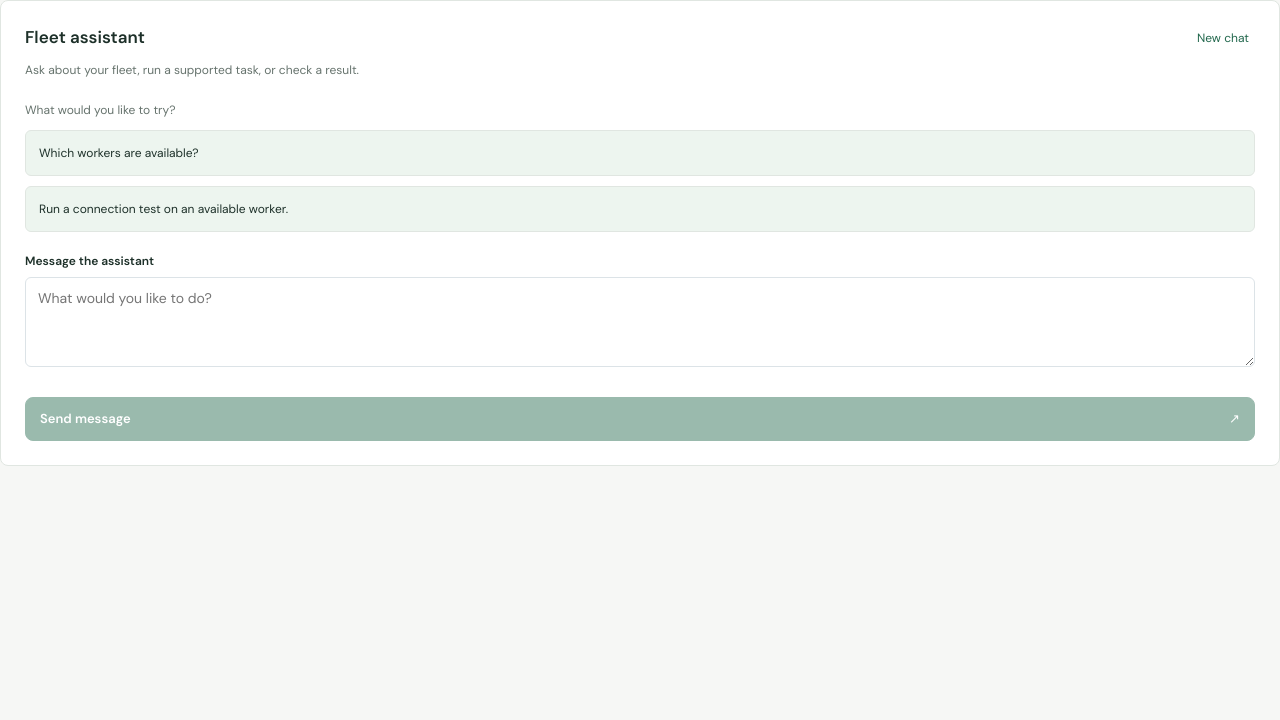
fleet assistant › sends messages, shows tool activity, and keeps follow-ups in one conversation
Type "Which workers are available?" into the text box labelled "Message the assistant". click: (640, 322)
box: [25,277,1255,367]
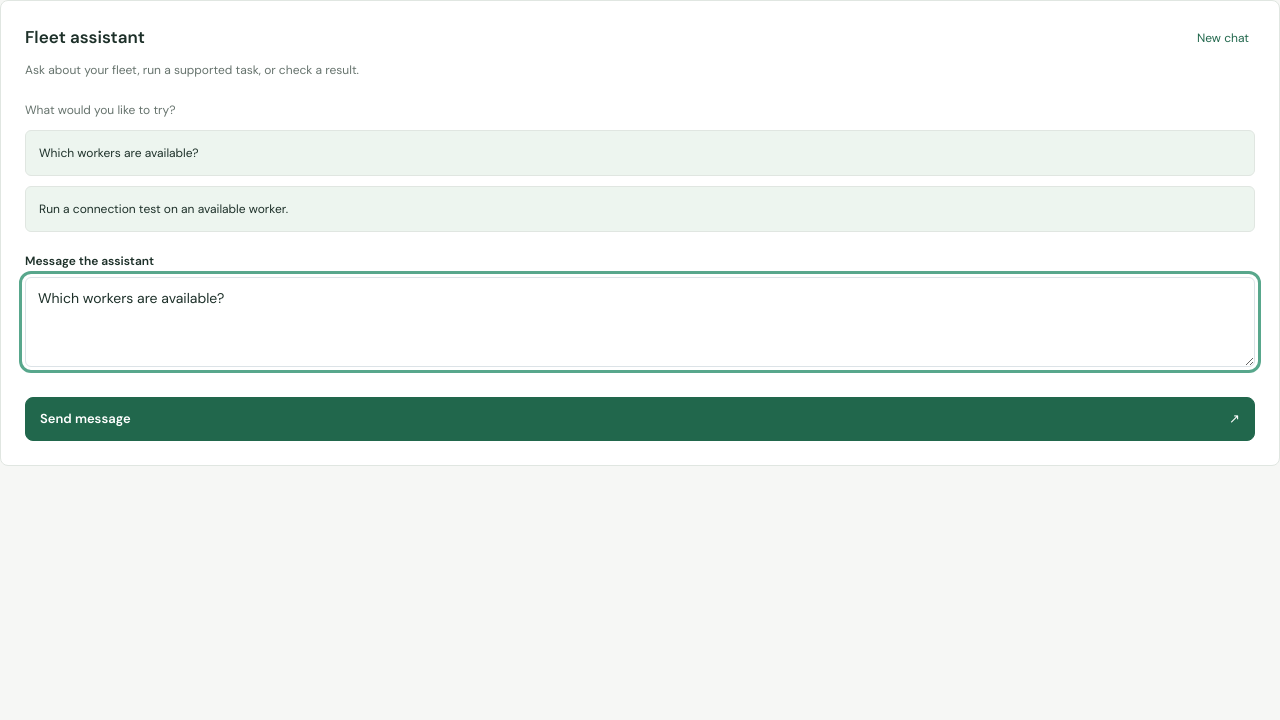
Click the button "Send message ↗". click: click(85, 419)
box: [25,397,1255,441]
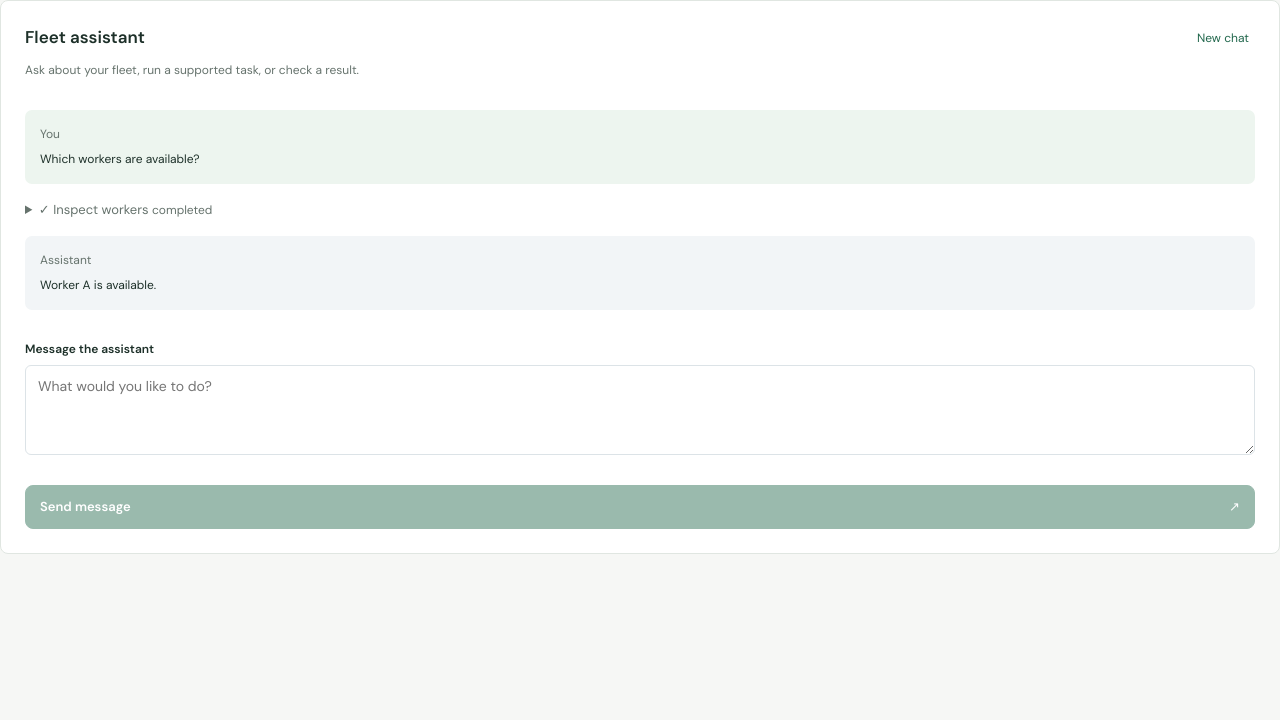
Expected: the text "Worker A is available." is shown, [40,277,156,293]
Expected: the heading "✓ Inspect workers completed" is shown
Click the heading "✓ Inspect workers completed". click: click(126, 210)
box: [39,201,212,218]
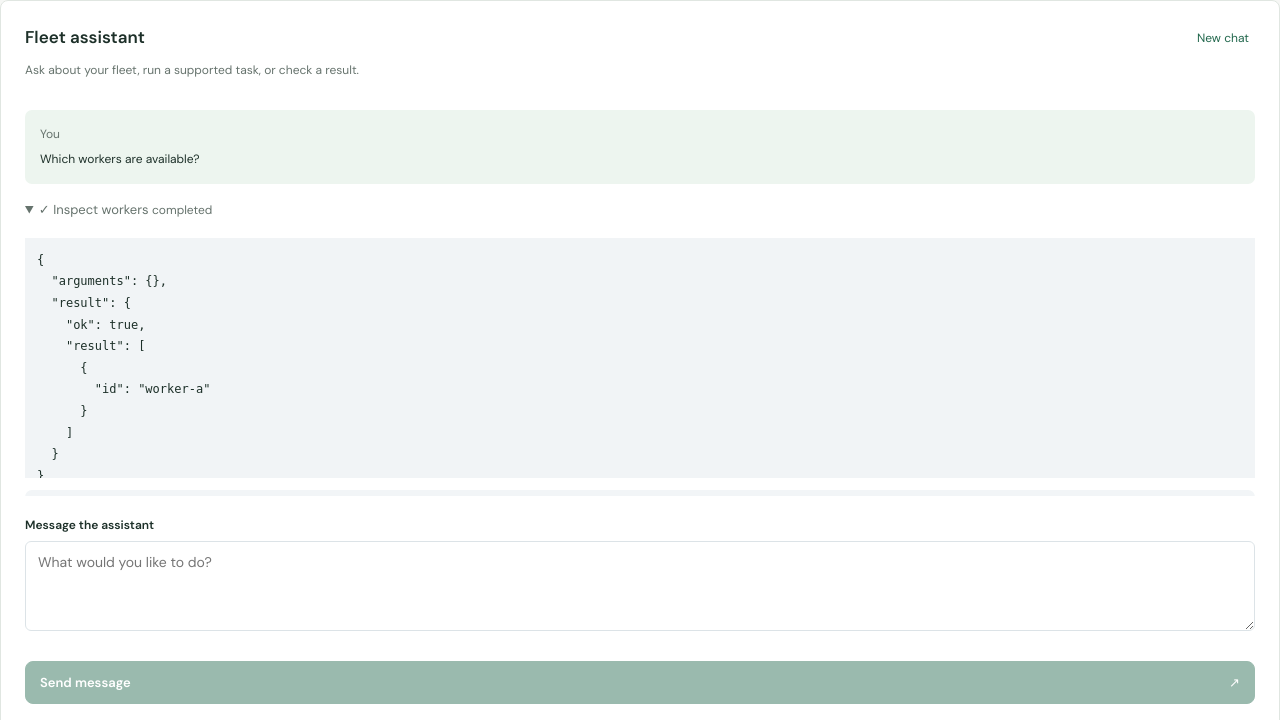
Expected: the text "worker-a" is shown, [37,253,210,483]
Type "How about now?" into the text box labelled "Message the assistant". click: (640, 586)
box: [25,541,1255,631]
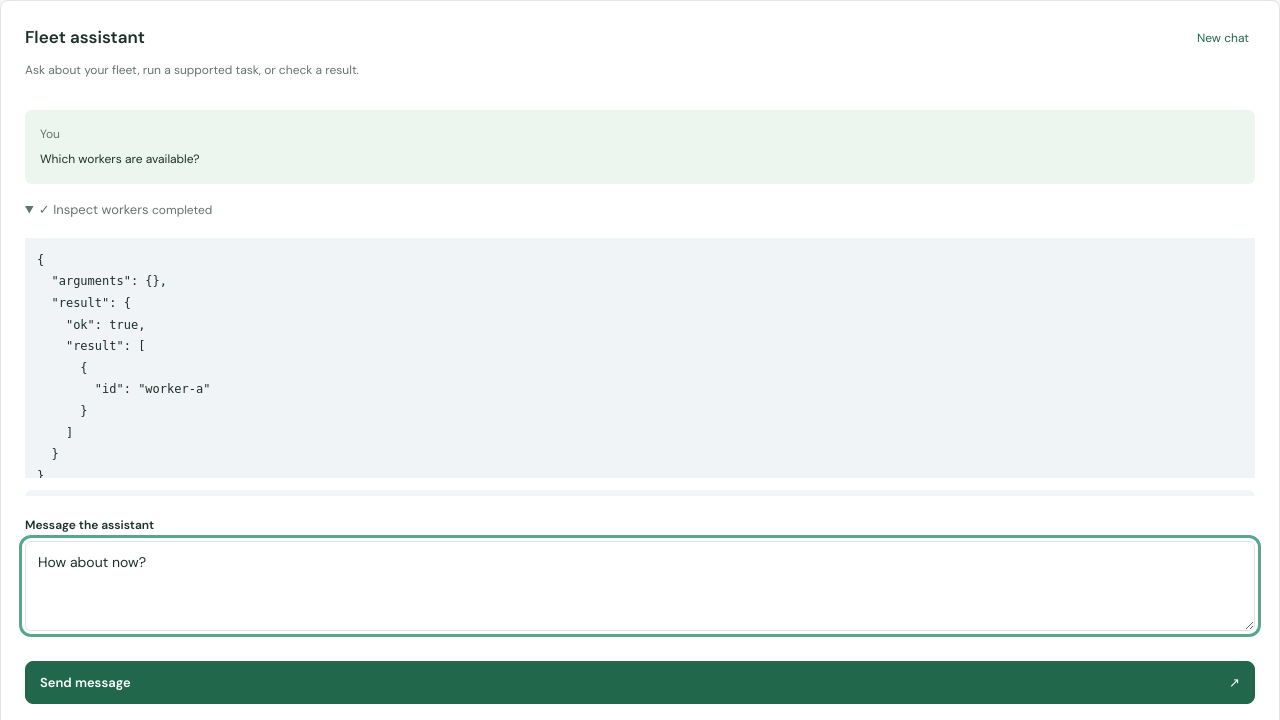
Click the button "Send message ↗". click: click(85, 682)
box: [25,661,1255,704]
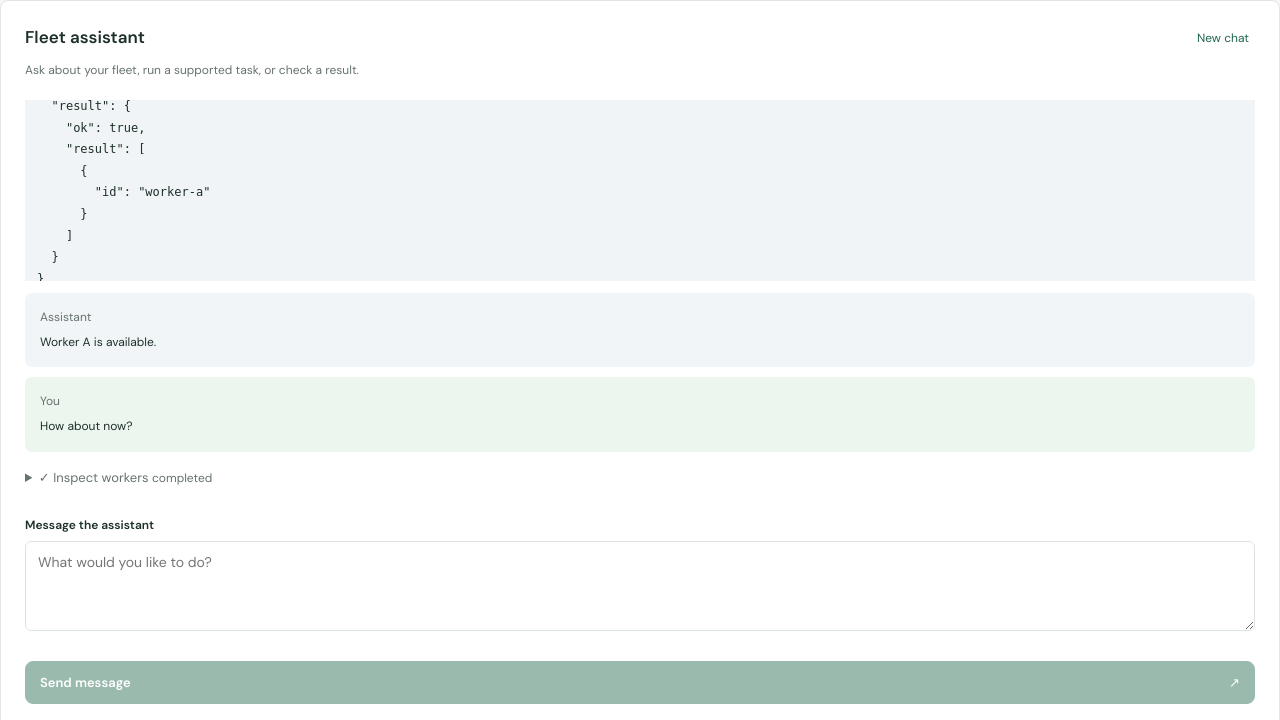
Expected: the text "Worker A is available." is shown 2 times
